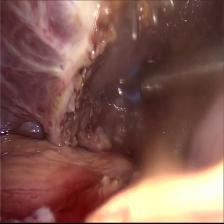Bipolar: (98, 62, 146, 108)
